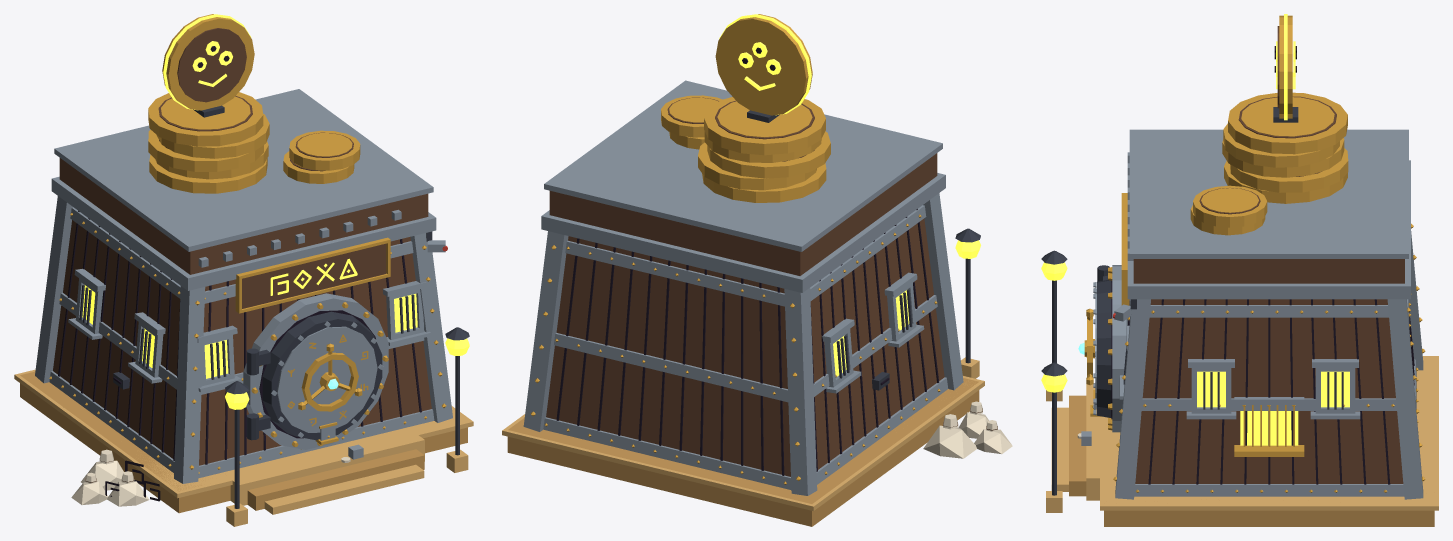
The model's file is Bldg_Bank 1.fbx.
The picture shows the model from 3 angles, left to right: view 1: azimuth 30°, elevation 25°; view 2: azimuth 150°, elevation 25°; view 3: azimuth 270°, elevation 25°; orthographic projection. The views are drawn at different scales.
Parts seen in each view (by area): view 1: Bldg_Bank_Body, Bldg_Bank_Vault_Door, Bldg_Bank_Coin, Bldg_Bank_Dial; view 2: Bldg_Bank_Body, Bldg_Bank_Coin; view 3: Bldg_Bank_Body, Bldg_Bank_Vault_Door, Bldg_Bank_Coin, Bldg_Bank_Dial.
Boxes of the visible parts, x1=… form: Bldg_Bank_Body: x1=14, y1=89, x2=473, y2=526; Bldg_Bank_Vault_Door: x1=259, y1=311, x2=383, y2=440; Bldg_Bank_Coin: x1=162, y1=14, x2=254, y2=110; Bldg_Bank_Dial: x1=298, y1=343, x2=362, y2=411; Bldg_Bank_Body: x1=502, y1=80, x2=1012, y2=526; Bldg_Bank_Coin: x1=715, y1=14, x2=812, y2=115; Bldg_Bank_Body: x1=1041, y1=92, x2=1438, y2=526; Bldg_Bank_Vault_Door: x1=1093, y1=275, x2=1111, y2=417; Bldg_Bank_Coin: x1=1274, y1=14, x2=1296, y2=120; Bldg_Bank_Dial: x1=1078, y1=308, x2=1094, y2=385.
Bounding box in the file's own units: 10.38 × 11.21 × 9.62.
